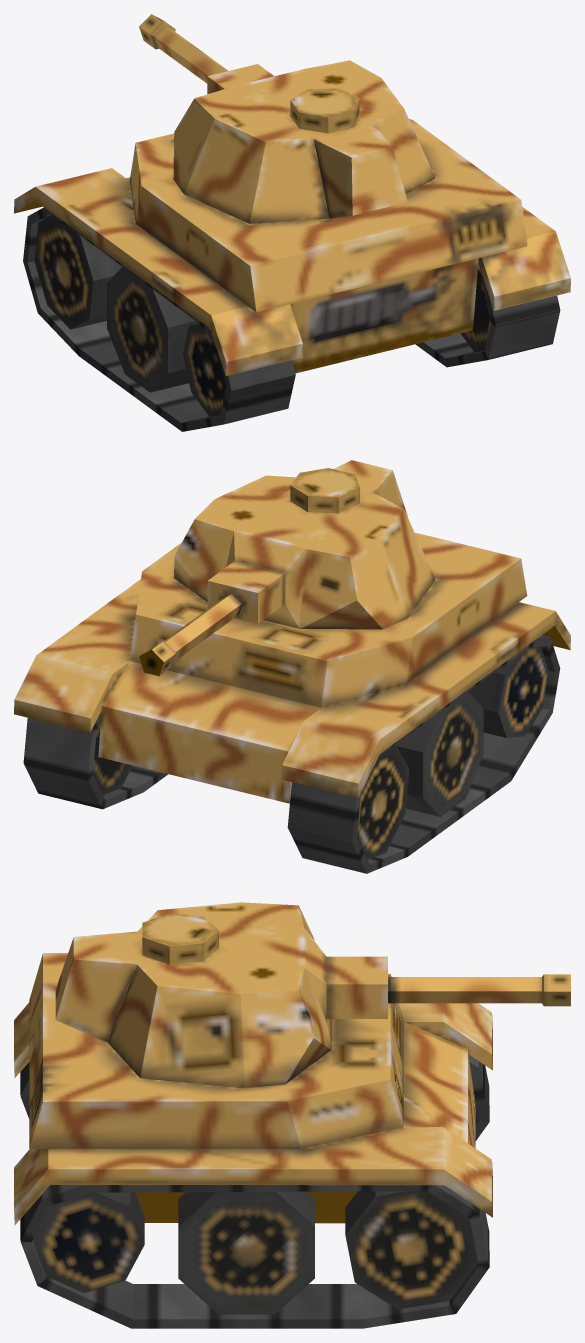
Rendered from npcTank1.glb.
3 views of the same model, one above another, from view 1: azimuth 30°, elevation 25°; view 2: azimuth 150°, elevation 25°; view 3: azimuth 270°, elevation 25° (orthographic). The views are drawn at different scales.
Parts seen in each view (by area): view 1: Цилиндр; view 2: Цилиндр; view 3: Цилиндр.
Boxes of the visible parts, box(x1,y1,x2,y2) form: Цилиндр: box(14, 14, 570, 431); Цилиндр: box(14, 460, 570, 873); Цилиндр: box(14, 902, 570, 1328).
Bounding box in the file's own units: 1.77 × 1.35 × 2.2.
Materials: 1 (1 with a texture image).
